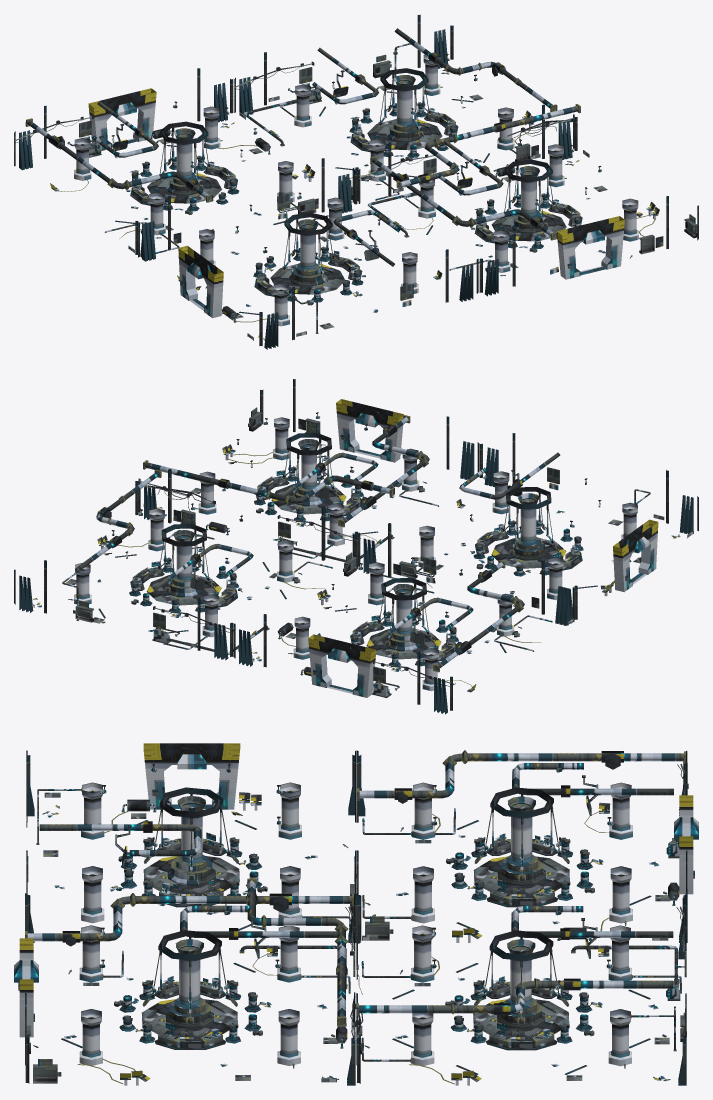
File: Combined_Mesh_root_scene__9_f65a131e__ZombiesII_laboratory_08_d_36b73b52_c1f257_part001.obj
The picture shows the model from 3 angles, top to bottom: view 1: azimuth 30°, elevation 25°; view 2: azimuth 150°, elevation 25°; view 3: azimuth 270°, elevation 25°; orthographic projection. The views are drawn at different scales.
Bounding box in the file's own units: 83.04 × 10.34 × 83.14.
Materials: 538 (538 with a texture image).
